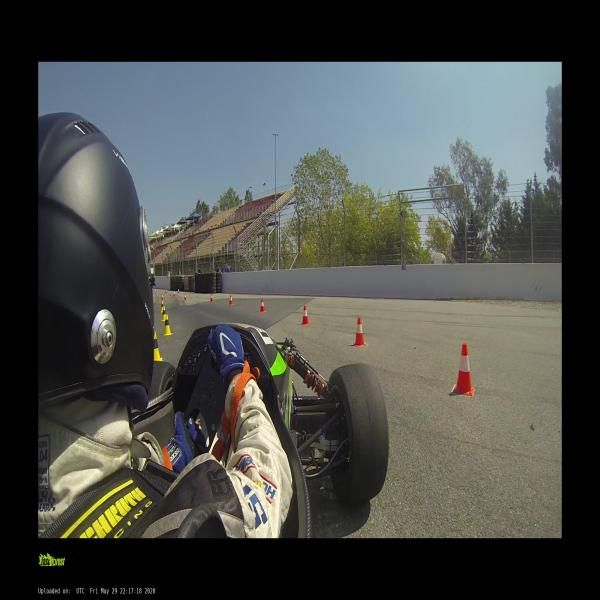orange_cone: (452, 343, 474, 396), (353, 317, 366, 347), (299, 305, 309, 326), (258, 300, 266, 312), (228, 296, 233, 305), (210, 294, 213, 302), (184, 294, 187, 301), (173, 290, 176, 296), (161, 294, 164, 300), (165, 288, 167, 294), (154, 289, 156, 293), (178, 288, 179, 294)
yellow_cone: (153, 330, 162, 361), (162, 315, 173, 336), (161, 306, 167, 321), (160, 301, 165, 314)
